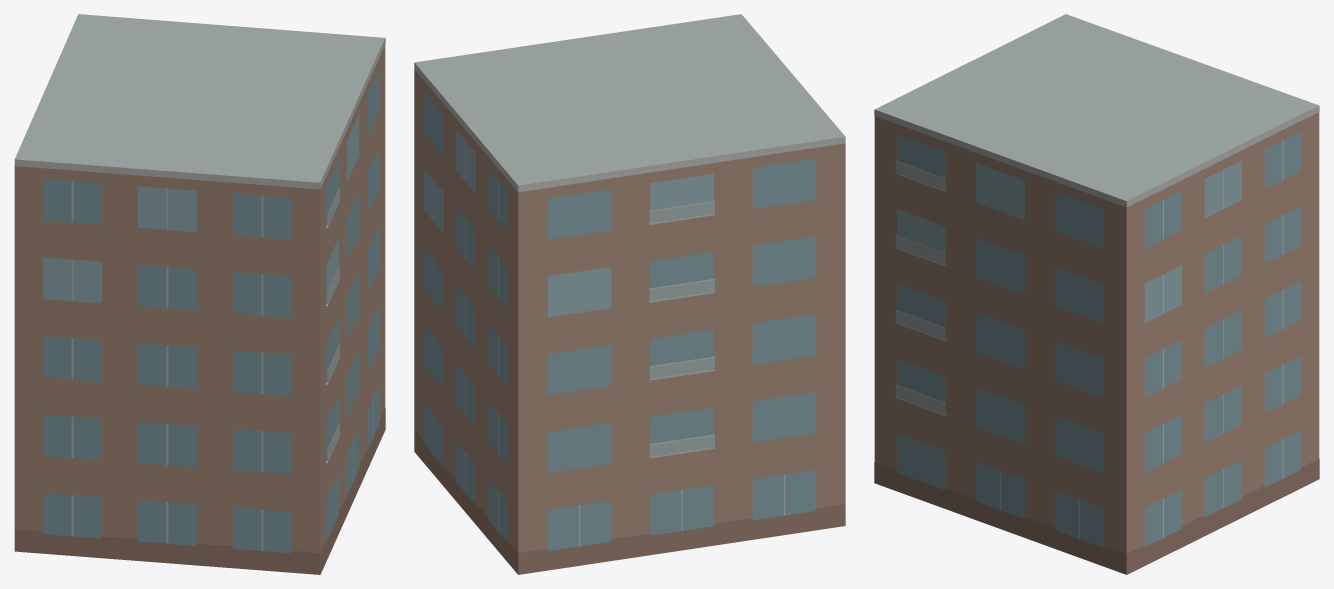
The model's file is survey-upis-32999634.glb.
3 renders of one model, left to right at view 1: azimuth 30°, elevation 25°; view 2: azimuth 150°, elevation 25°; view 3: azimuth 270°, elevation 25°, orthographic. The views are drawn at different scales.
Parts seen in each view (by area): view 1: survey-upis-32999634.tmp; view 2: survey-upis-32999634.tmp; view 3: survey-upis-32999634.tmp.
Boxes of the visible parts, left/top/right/bottom form: survey-upis-32999634.tmp: left=14, top=14, right=385, bottom=574; survey-upis-32999634.tmp: left=414, top=14, right=845, bottom=574; survey-upis-32999634.tmp: left=874, top=14, right=1319, bottom=574.
Bounding box in the file's own units: 15.48 × 14.4 × 15.55.
